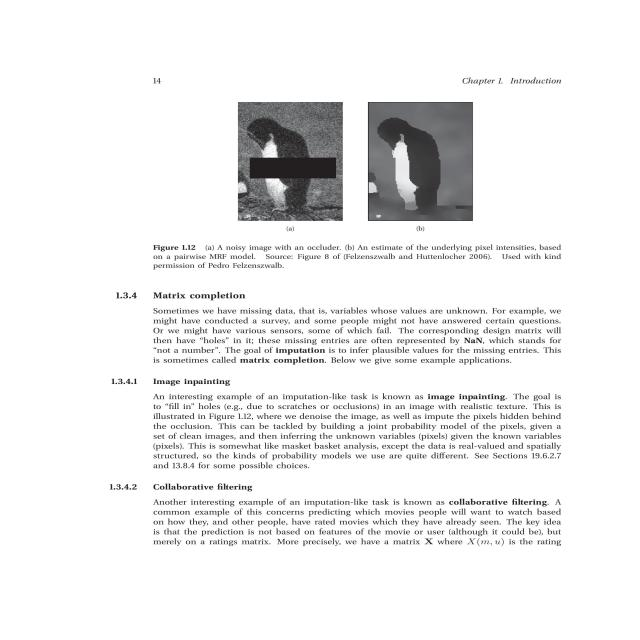diagram: (113, 90, 640, 274)
